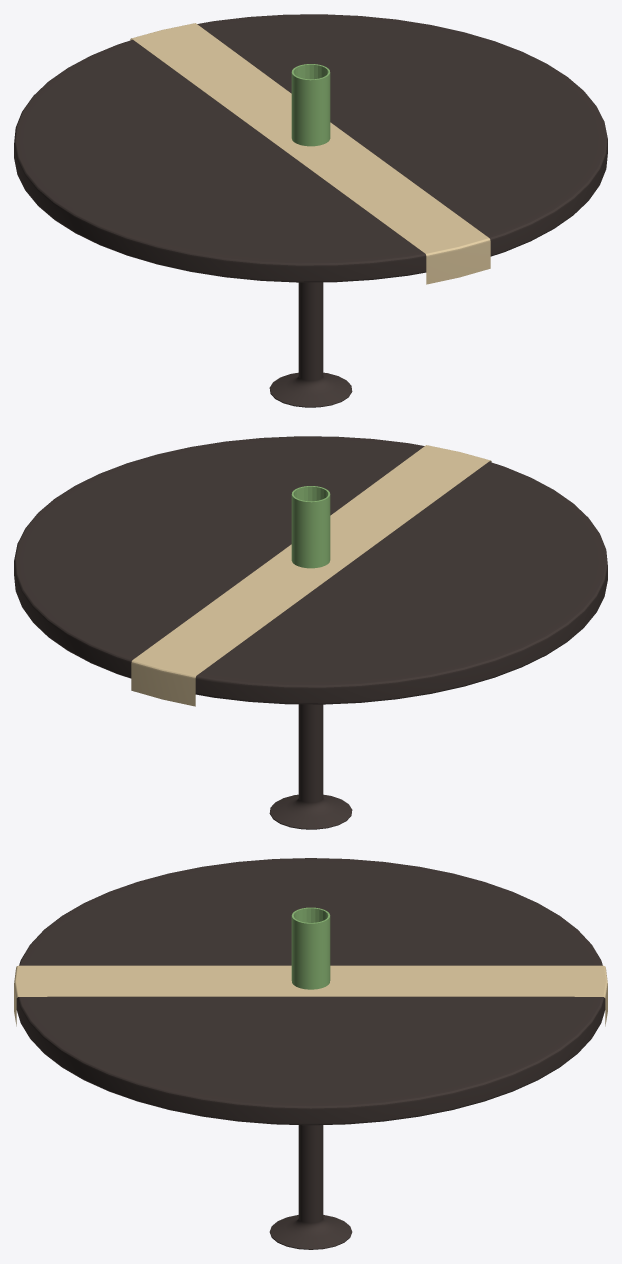
Rendered from tableFinal_HWG.fbx.
3 views of the same model, one above another, from view 1: azimuth 30°, elevation 25°; view 2: azimuth 150°, elevation 25°; view 3: azimuth 270°, elevation 25° (orthographic).
Parts seen in each view (by area): view 1: table_centerpiece; view 2: table_centerpiece; view 3: table_centerpiece.
Part boxes in pixels (x1,y1,x2,y2): table_centerpiece: [14, 14, 607, 407]; table_centerpiece: [14, 436, 607, 829]; table_centerpiece: [14, 858, 607, 1249].
Size of the model in its own units: 169 by 99.98 by 170.
